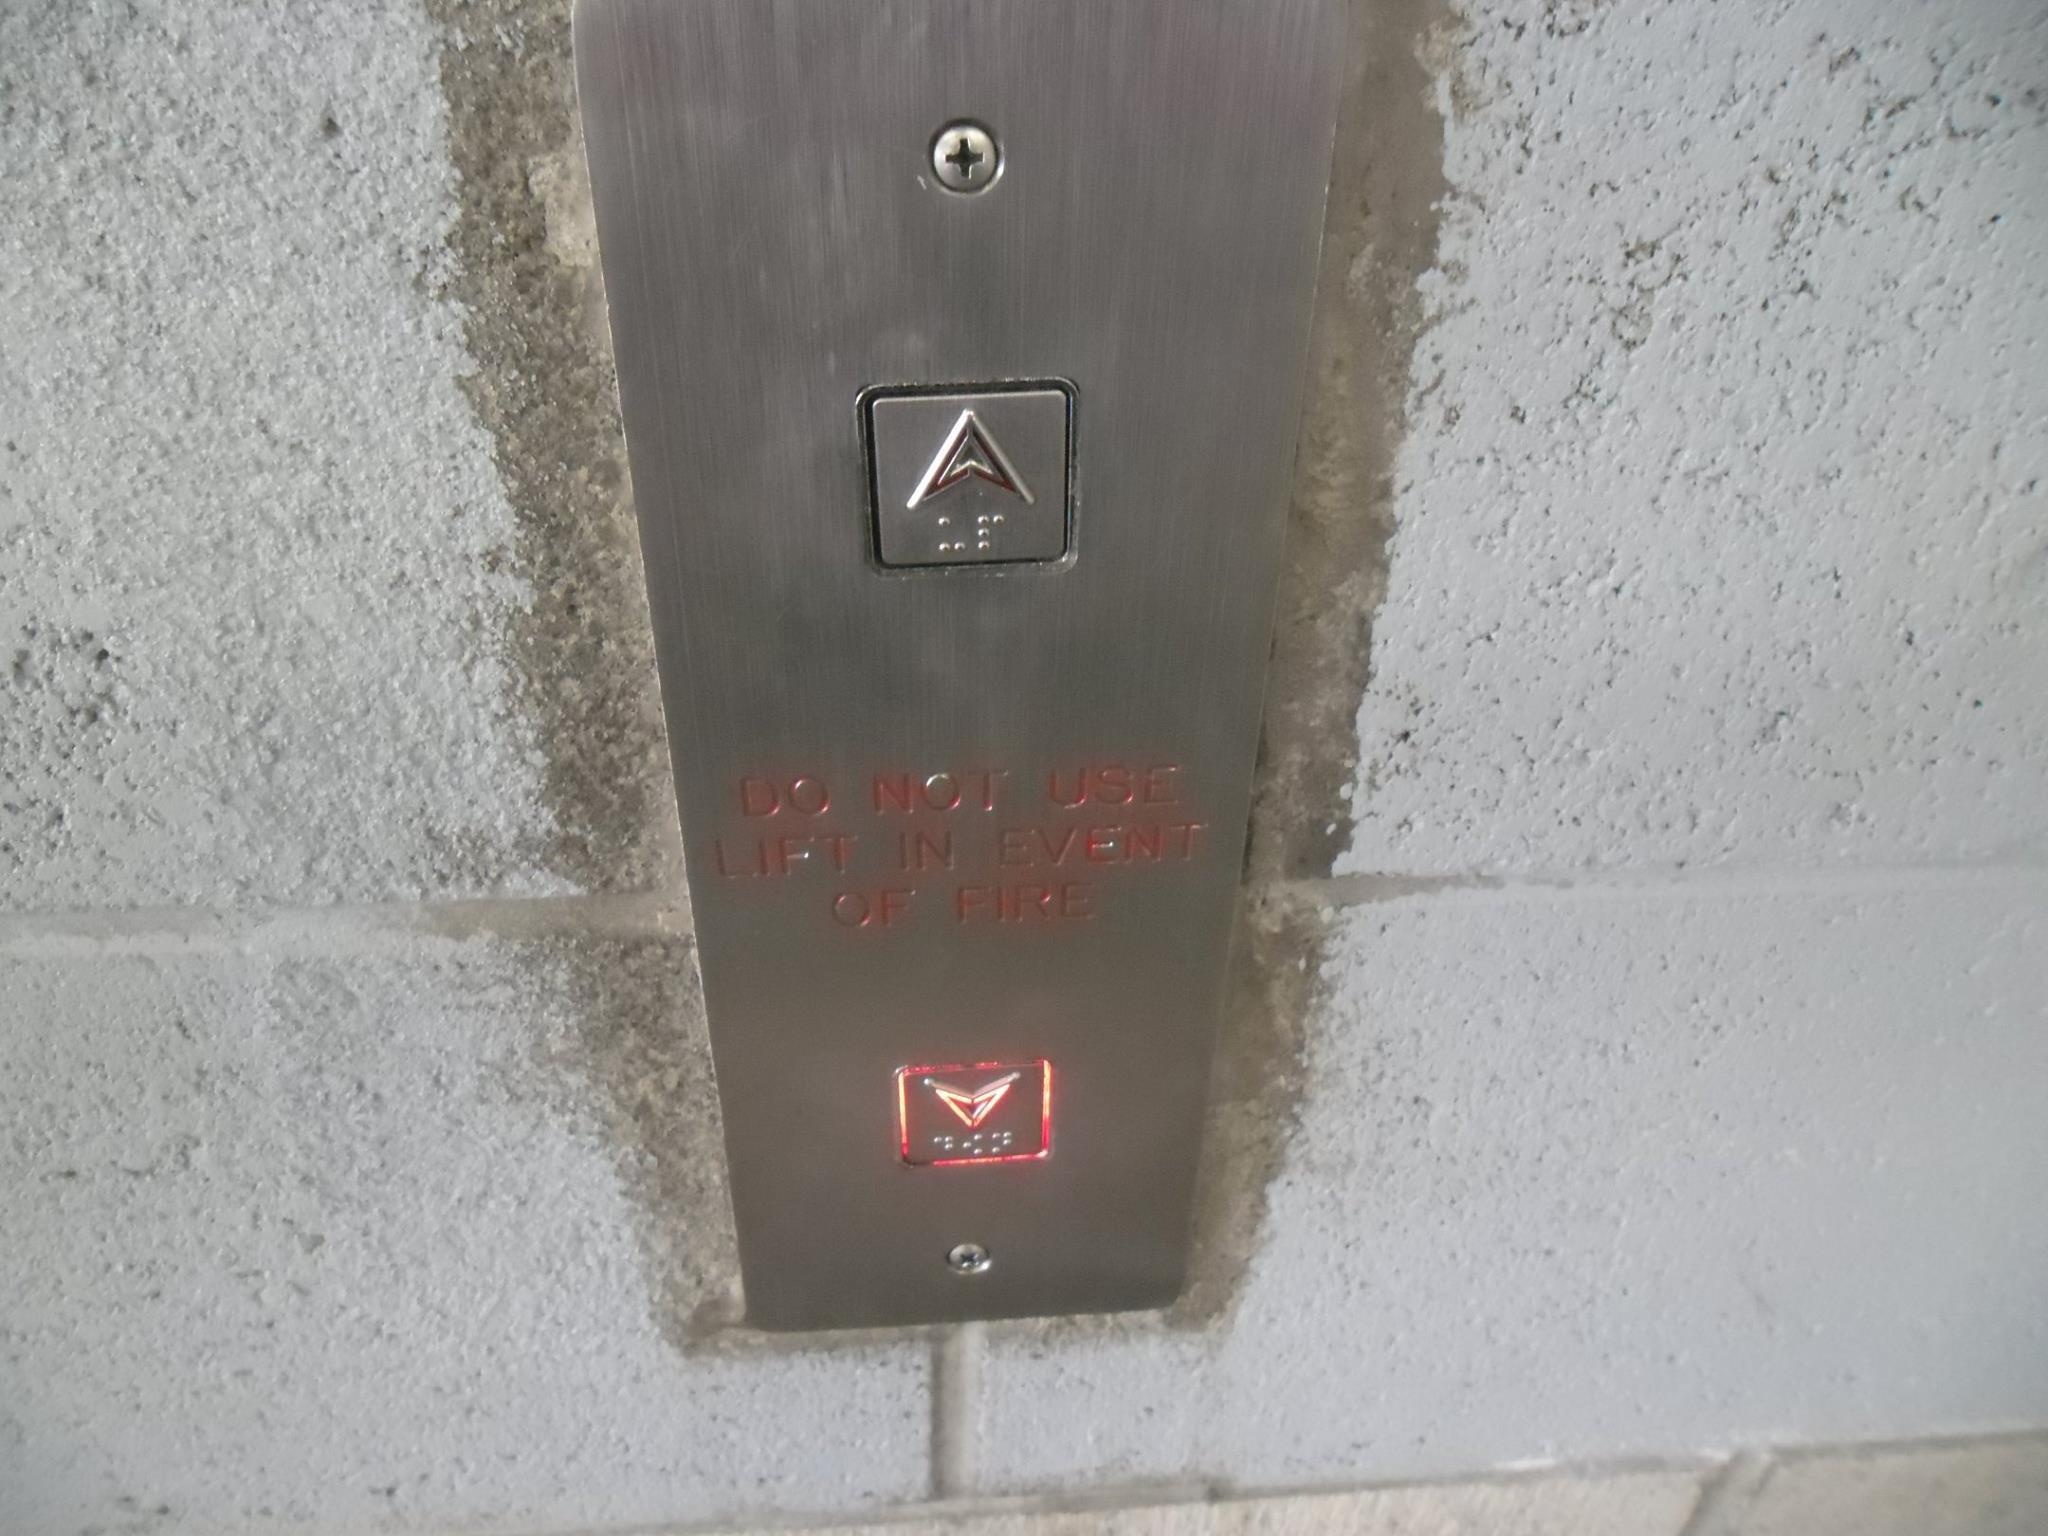down: (889, 1052, 1063, 1173)
up: (853, 371, 1092, 586)
